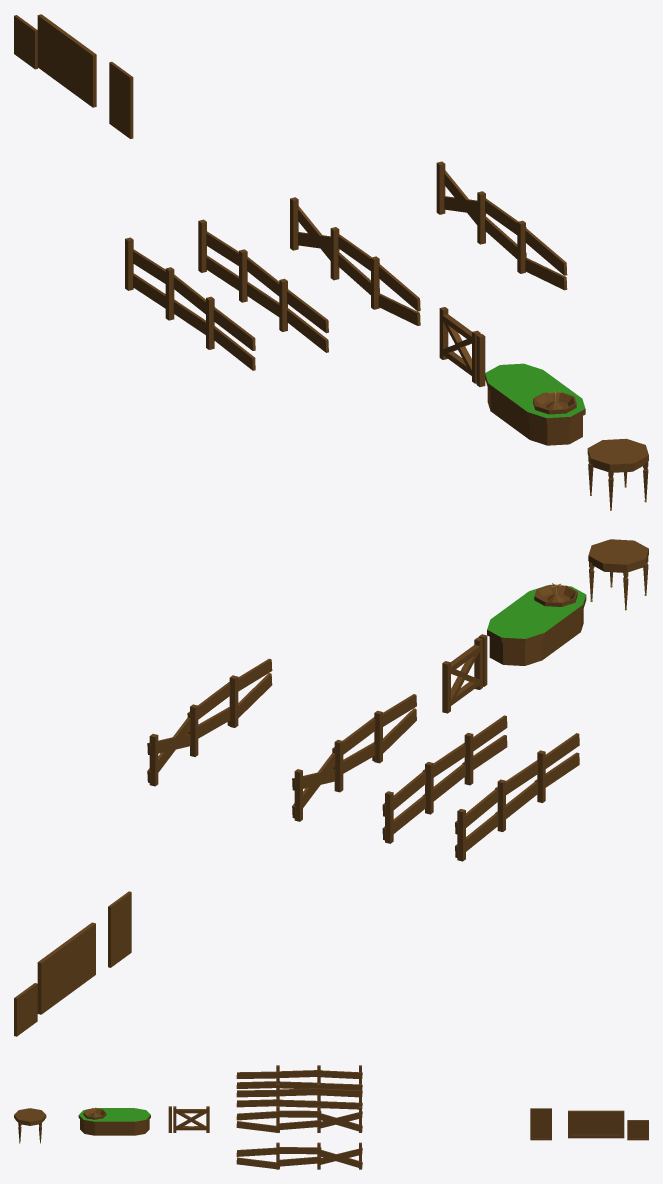
File: mischelanea_2.fbx
3 views of the same model, one above another, from view 1: azimuth 30°, elevation 25°; view 2: azimuth 150°, elevation 25°; view 3: azimuth 270°, elevation 25° (orthographic). The views are drawn at different scales.
Visible parts, largest first — view 1: ROULETTE, FENCE_UNITA_2, FENCE_UNITA_1, QUADRO_2, TAVOLO, FENCE_SINGOLA_6, FENCE_SINGOLA_3, FENCE_APERTURA, QUADRO_1, FENCE_SINGOLA_1, FENCE_SINGOLA_4, FENCE_SINGOLA_2 (+2 smaller); view 2: ROULETTE, FENCE_UNITA_2, FENCE_UNITA_1, QUADRO_2, TAVOLO, FENCE_APERTURA, FENCE_SINGOLA_2, QUADRO_1, FENCE_SINGOLA_3, FENCE_SINGOLA_6, FENCE_SINGOLA_4, FENCE_SINGOLA_1 (+2 smaller); view 3: FENCE_UNITA_2, FENCE_UNITA_1, ROULETTE, QUADRO_2, QUADRO_1, FENCE_SINGOLA_3, FENCE_APERTURA, FENCE_SINGOLA_4, FENCE_SINGOLA_6, FENCE_SINGOLA_1, FENCE_SINGOLA_2, FENCE_SINGOLA_5 (+2 smaller).
Part boxes in pixels (left/top/right/bottom): ROULETTE: left=485, top=363, right=585, bottom=445; FENCE_UNITA_2: left=198, top=219, right=328, bottom=352; FENCE_UNITA_1: left=290, top=197, right=420, bottom=325; QUADRO_2: left=37, top=14, right=96, bottom=107; TAVOLO: left=587, top=438, right=648, bottom=510; FENCE_SINGOLA_6: left=206, top=296, right=255, bottom=370; FENCE_SINGOLA_3: left=517, top=220, right=567, bottom=290; FENCE_APERTURA: left=439, top=307, right=480, bottom=383; QUADRO_1: left=109, top=61, right=133, bottom=138; FENCE_SINGOLA_1: left=165, top=267, right=205, bottom=334; FENCE_SINGOLA_4: left=477, top=191, right=526, bottom=258; FENCE_SINGOLA_2: left=125, top=237, right=165, bottom=308; ROULETTE: left=487, top=583, right=586, bottom=665; FENCE_UNITA_2: left=382, top=715, right=507, bottom=843; FENCE_UNITA_1: left=292, top=694, right=416, bottom=821; QUADRO_2: left=37, top=922, right=95, bottom=1014; TAVOLO: left=588, top=539, right=648, bottom=610; FENCE_APERTURA: left=442, top=637, right=482, bottom=713; FENCE_SINGOLA_2: left=455, top=789, right=498, bottom=861; QUADRO_1: left=108, top=891, right=131, bottom=967; FENCE_SINGOLA_3: left=227, top=658, right=272, bottom=727; FENCE_SINGOLA_6: left=534, top=733, right=579, bottom=802; FENCE_SINGOLA_4: left=187, top=682, right=230, bottom=756; FENCE_SINGOLA_1: left=495, top=760, right=537, bottom=831; FENCE_UNITA_2: left=236, top=1083, right=362, bottom=1109; FENCE_UNITA_1: left=236, top=1106, right=362, bottom=1132; ROULETTE: left=78, top=1107, right=150, bottom=1135; QUADRO_2: left=568, top=1110, right=624, bottom=1138; QUADRO_1: left=530, top=1108, right=551, bottom=1140; FENCE_SINGOLA_3: left=236, top=1142, right=280, bottom=1169; FENCE_APERTURA: left=173, top=1106, right=209, bottom=1132; FENCE_SINGOLA_4: left=277, top=1142, right=321, bottom=1169; FENCE_SINGOLA_6: left=236, top=1065, right=280, bottom=1088; FENCE_SINGOLA_1: left=277, top=1065, right=321, bottom=1088; FENCE_SINGOLA_2: left=319, top=1065, right=362, bottom=1090; FENCE_SINGOLA_5: left=319, top=1142, right=362, bottom=1169.
Size of the model in its own units: 1740 by 327 by 5887.
